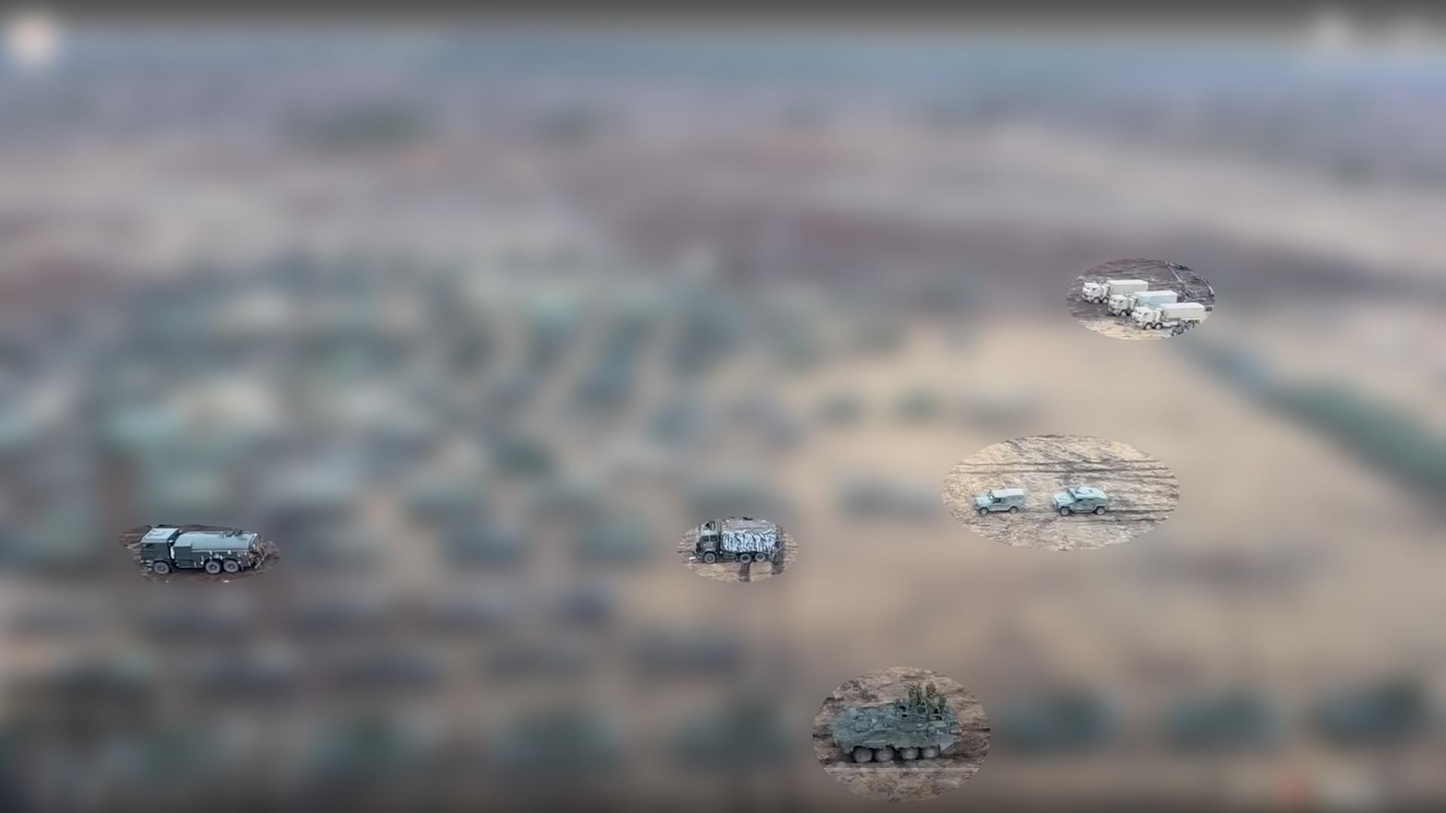armored_car: (822, 697, 961, 768), (1048, 487, 1112, 517), (972, 489, 1027, 516)
truck: (134, 525, 270, 577), (692, 518, 782, 566), (1127, 304, 1214, 338)
